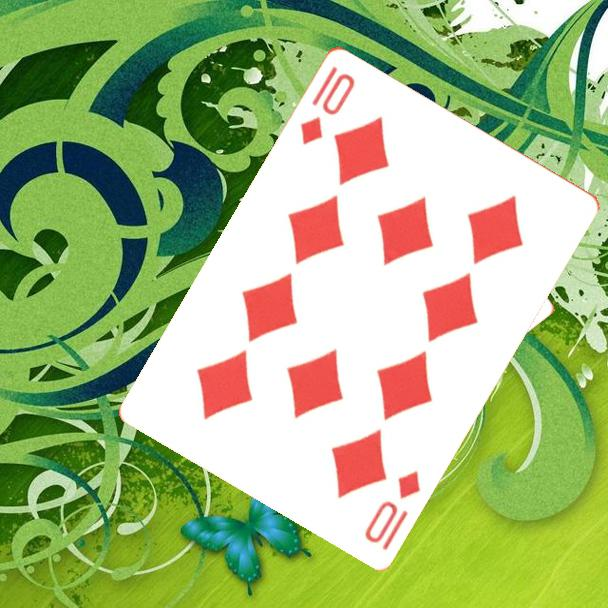d10: (361, 466, 423, 553), (296, 62, 358, 147)
